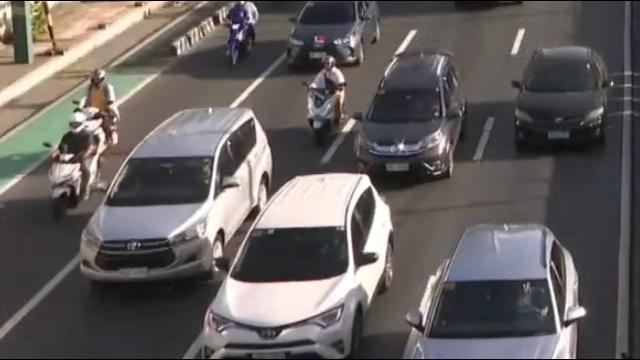car: (200, 171, 395, 360), (79, 106, 275, 289), (406, 222, 586, 360), (353, 48, 469, 184), (510, 46, 613, 151), (284, 0, 381, 70)
motorcycle: (41, 110, 100, 217), (72, 68, 118, 163), (305, 56, 349, 142), (223, 0, 257, 66)
